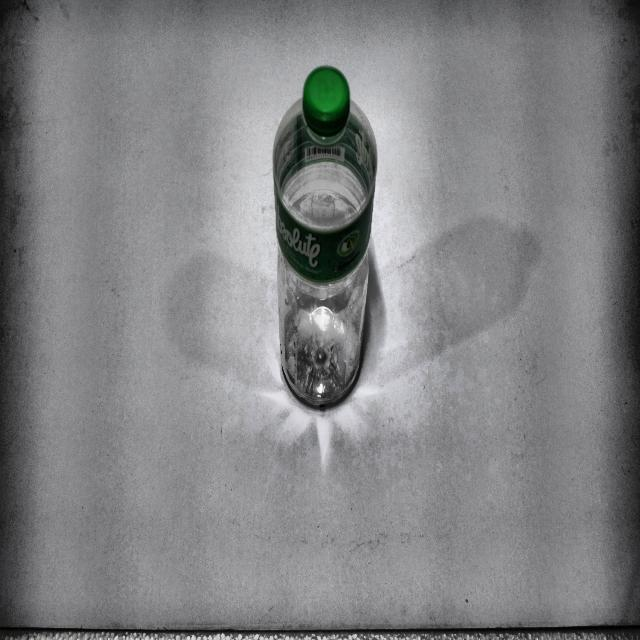Bottles: (269, 60, 382, 417)
